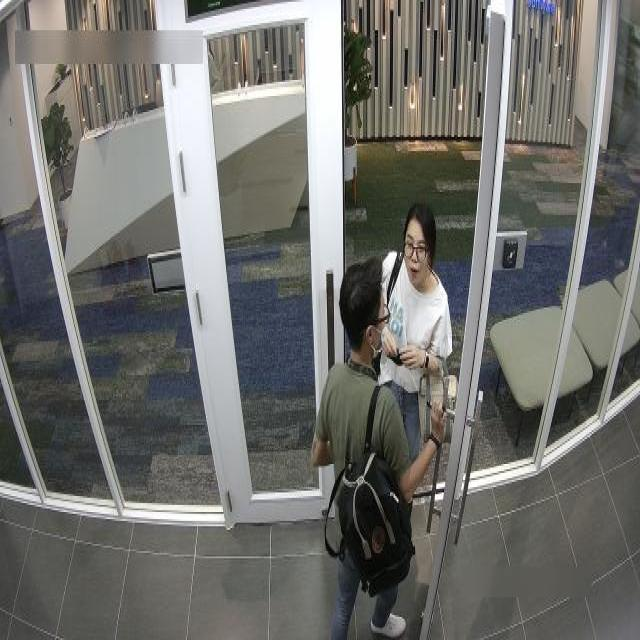bare_hand: (430, 396, 455, 452), (376, 313, 403, 364), (400, 336, 428, 377)
